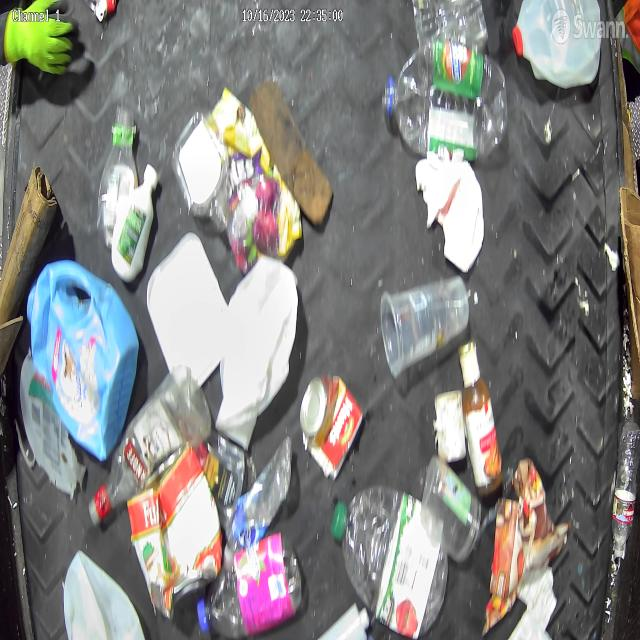can: (127, 440, 223, 620), (300, 377, 362, 480)
milk_jug: (214, 254, 298, 450), (512, 0, 602, 89), (62, 548, 146, 640)
non_white_jug: (26, 259, 140, 463)
plastic_bottle: (331, 486, 448, 635), (381, 43, 508, 165), (197, 532, 302, 638), (224, 436, 292, 562), (96, 104, 138, 249)
